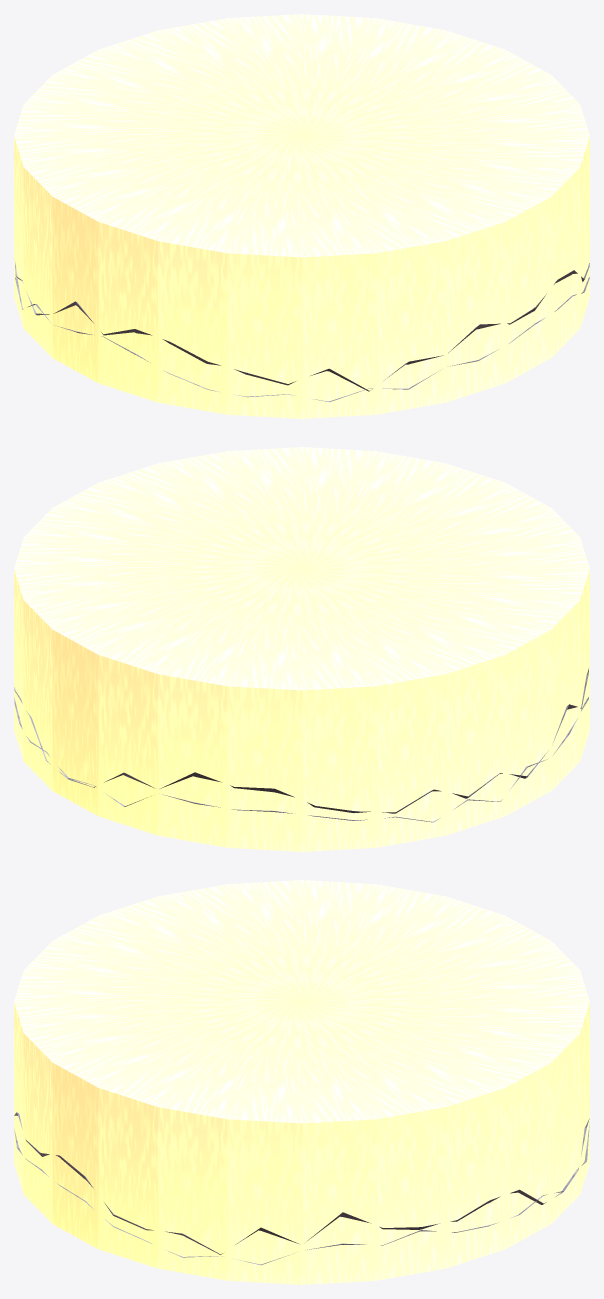
File: level.gltf
The picture shows the model from 3 angles, top to bottom: view 1: azimuth 30°, elevation 25°; view 2: azimuth 150°, elevation 25°; view 3: azimuth 270°, elevation 25°; orthographic projection.
Visible parts, largest first — view 1: SCENE_GRID; view 2: SCENE_GRID; view 3: SCENE_GRID.
Part boxes in pixels (x1,y1,x2,y2): SCENE_GRID: (14,14,589,418); SCENE_GRID: (14,447,589,851); SCENE_GRID: (14,880,589,1284).
Size of what is drawn, in the model's own units: 323 by 99.92 by 323.
Materials: 2 (2 with a texture image).
